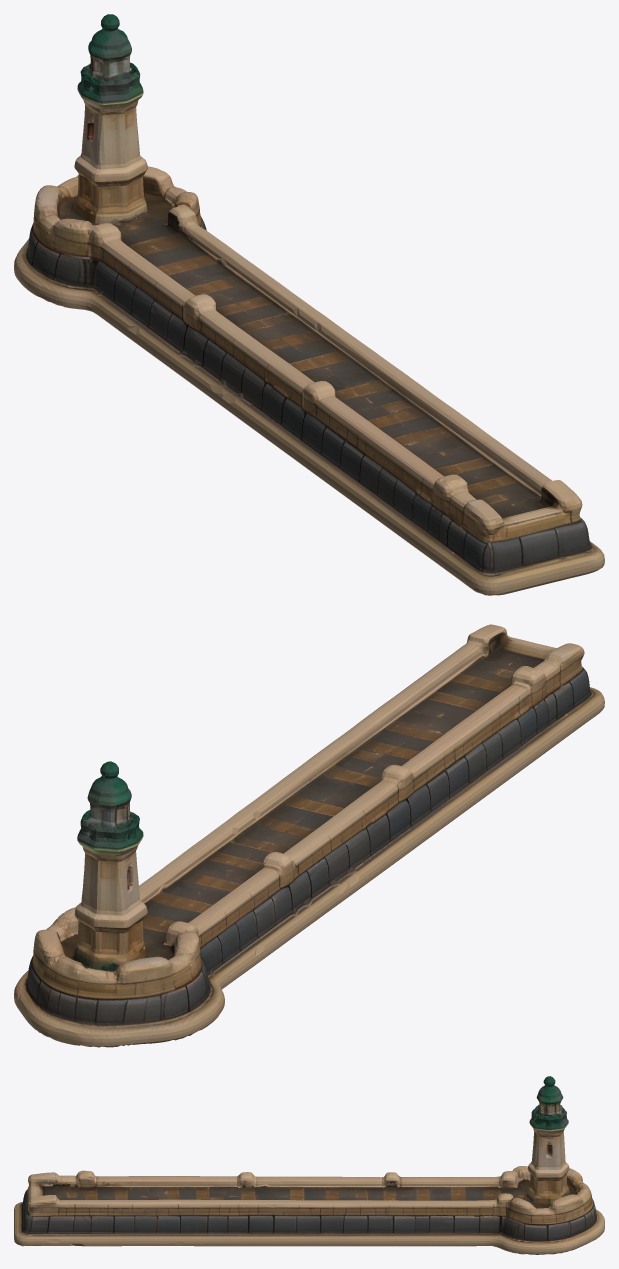
Rendered from switzerland-jet-d-eau.glb.
3 views of the same model, one above another, from view 1: azimuth 30°, elevation 25°; view 2: azimuth 150°, elevation 25°; view 3: azimuth 270°, elevation 25° (orthographic). The views are drawn at different scales.
Visible parts, largest first — view 1: textured_mesh.obj; view 2: textured_mesh.obj; view 3: textured_mesh.obj.
Part boxes in pixels (bbox=[...]): textured_mesh.obj: bbox=[14, 14, 604, 595]; textured_mesh.obj: bbox=[14, 624, 604, 1047]; textured_mesh.obj: bbox=[14, 1076, 604, 1254].
Size of the model in its own units: 0.4327 by 0.5642 by 1.99.
Materials: 1 (1 with a texture image).
